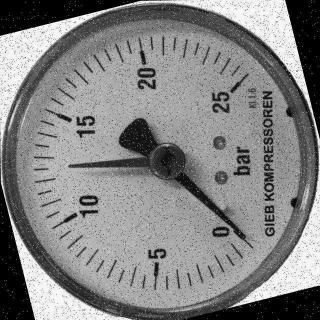gauge: (0, 0, 320, 320), (214, 209, 264, 259), (142, 136, 190, 184), (208, 69, 254, 111), (232, 224, 249, 242), (62, 158, 80, 174)
